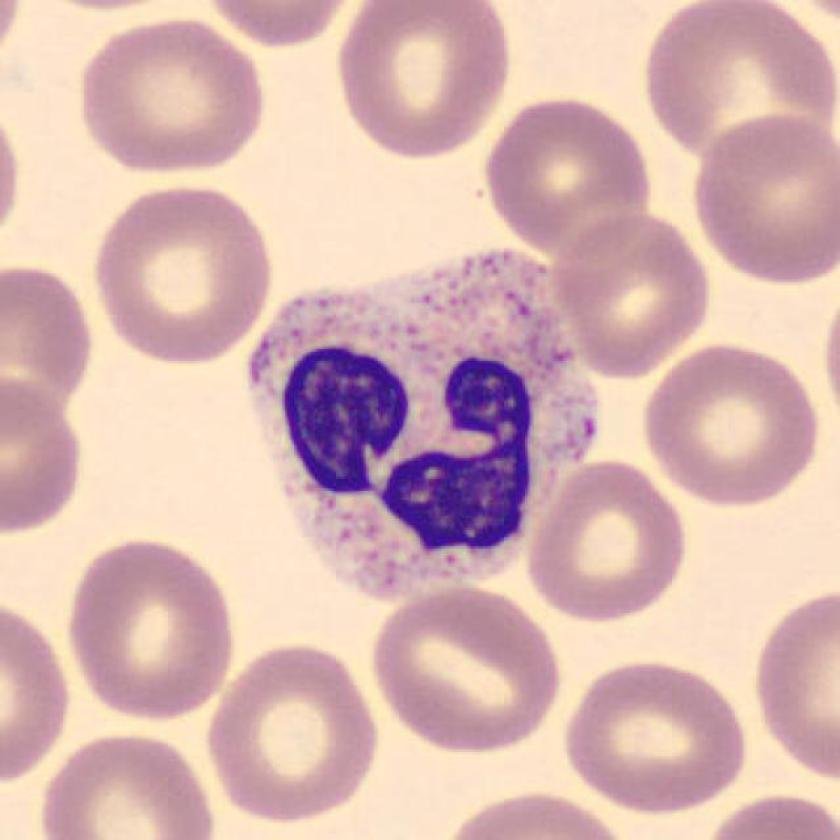neutrophil: (253, 251, 602, 599)
